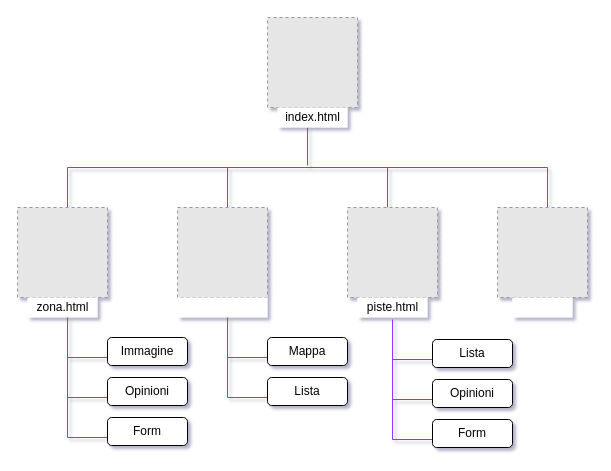
Some shapes in this 611 by 471 pixel diagram are drawn without their labels. Grey dashed boxes stand in for pictures. Here are the shapes that lost their labels. From the top down, the centre of each, then its label:
point 222,307: territorio.html
point 542,307: info.html
